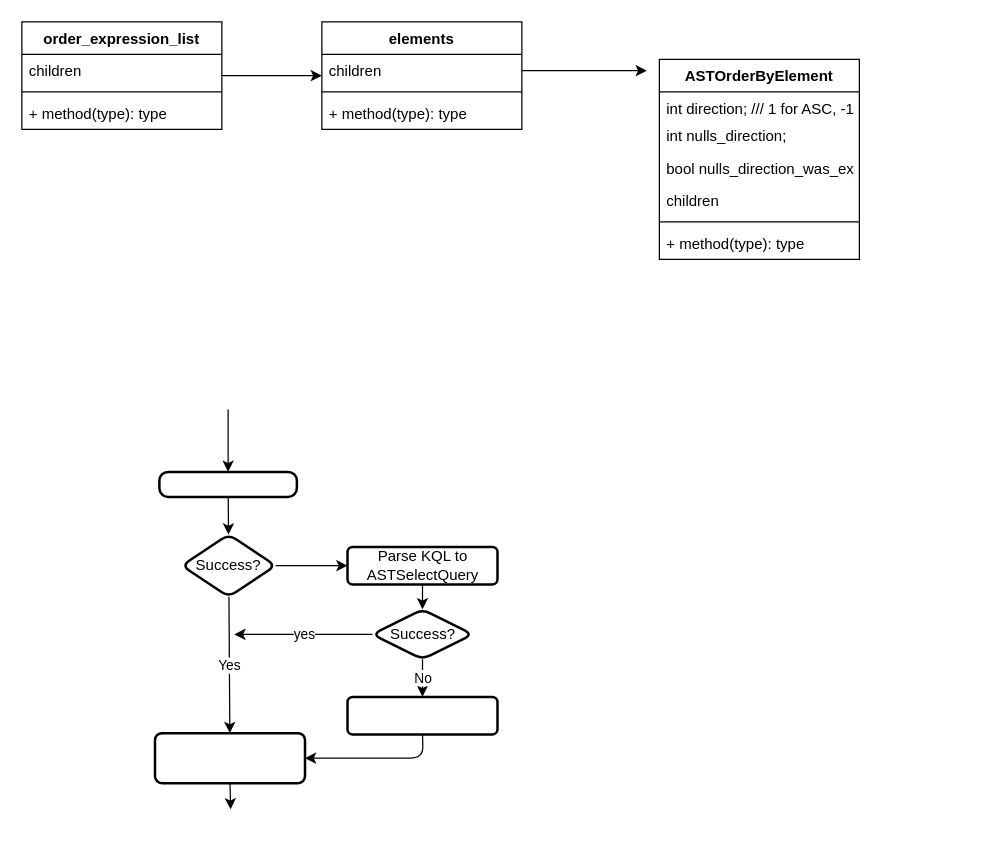
This 988x841 diagram has some shape labels left out. Here are the shapes that lost their labels. From the top down, the centre of each, then its label:
At point (228, 484): "ParserSelectQuery".
At point (422, 715): "do other parsing".
At point (229, 757): "Further process".
